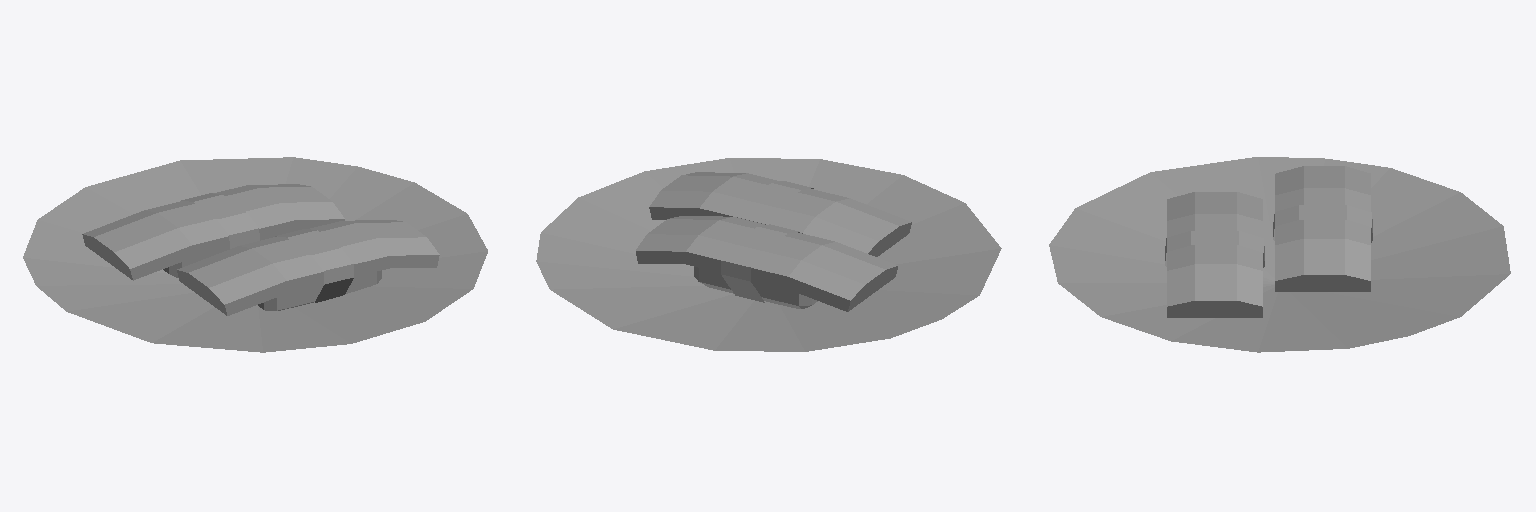
The model's file is sushi_t.obj.
3 renders of one model, left to right at view 1: azimuth 30°, elevation 25°; view 2: azimuth 150°, elevation 25°; view 3: azimuth 270°, elevation 25°, orthographic.
Parts seen in each view (by area): view 1: plate_Cone, tamago001_Cube004, tamago_Cube; view 2: plate_Cone, tamago_Cube, tamago001_Cube004; view 3: plate_Cone, tamago001_Cube004, tamago_Cube.
Part boxes in pixels (left/top/right/bottom): plate_Cone: left=23, top=157, right=487, bottom=352; tamago001_Cube004: left=177, top=220, right=439, bottom=315; tamago_Cube: left=82, top=184, right=344, bottom=280; plate_Cone: left=536, top=158, right=1001, bottom=351; tamago_Cube: left=636, top=216, right=897, bottom=311; tamago001_Cube004: left=649, top=172, right=911, bottom=256; plate_Cone: left=1049, top=157, right=1510, bottom=352; tamago001_Cube004: left=1165, top=192, right=1264, bottom=317; tamago_Cube: left=1273, top=166, right=1372, bottom=291.
Size of the model in its own units: 0.991 by 0.1721 by 0.9875.